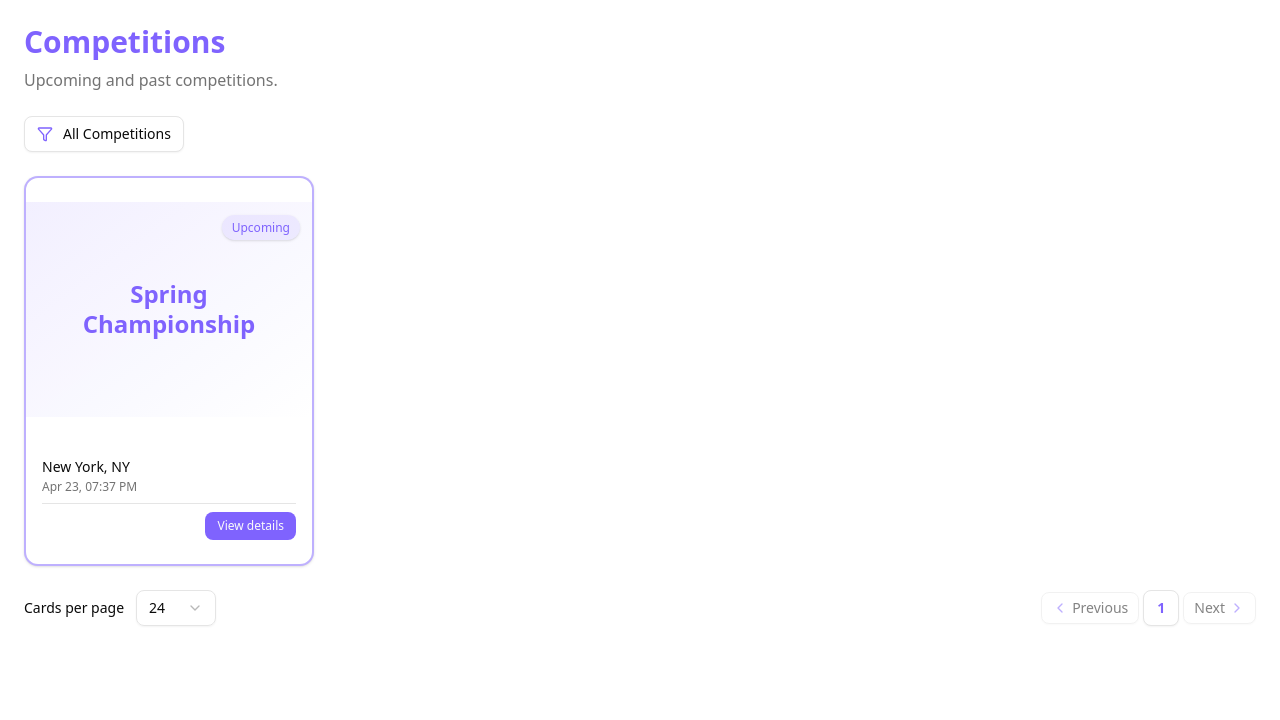
Test case: CompetitionsPage › opens the details modal when 'View details' is clicked
The image size is (1280, 720).
Click the button "View details": click(251, 526) [206,512,296,540]
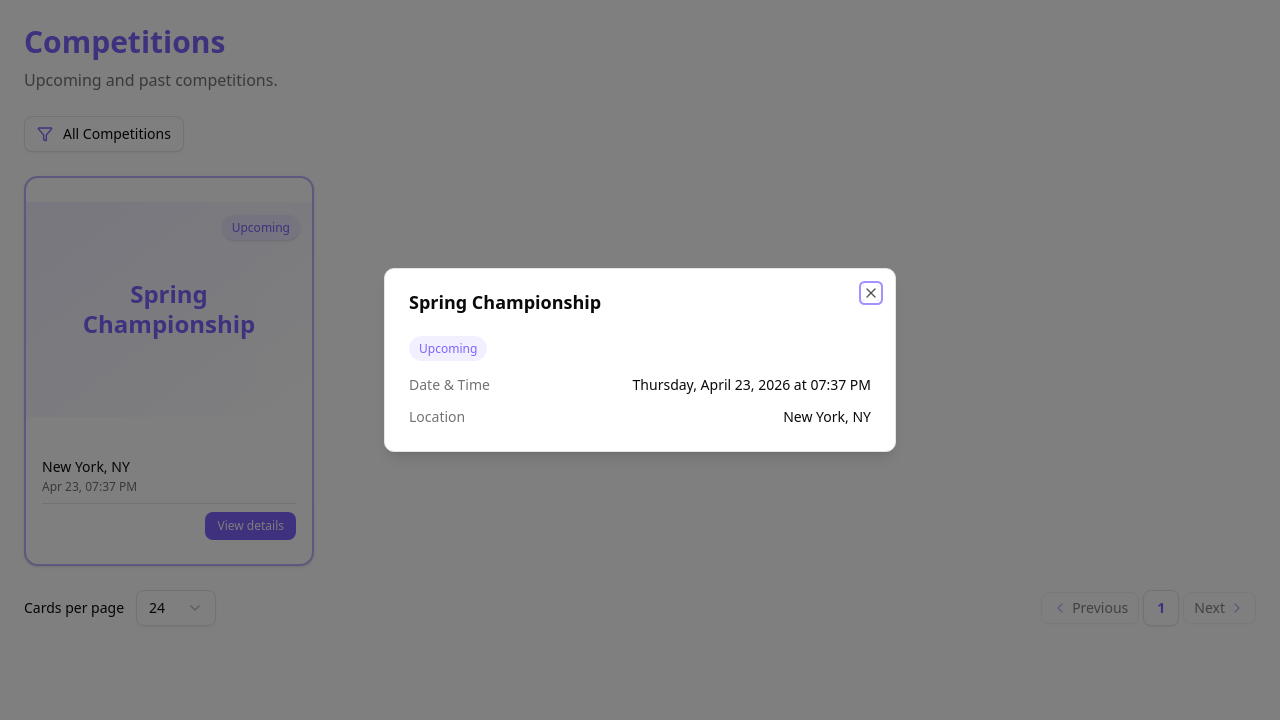
Check: the dialog is shown, box [384,268,896,452]
Check: the heading "Spring Championship" is shown, box [409,290,601,314]
